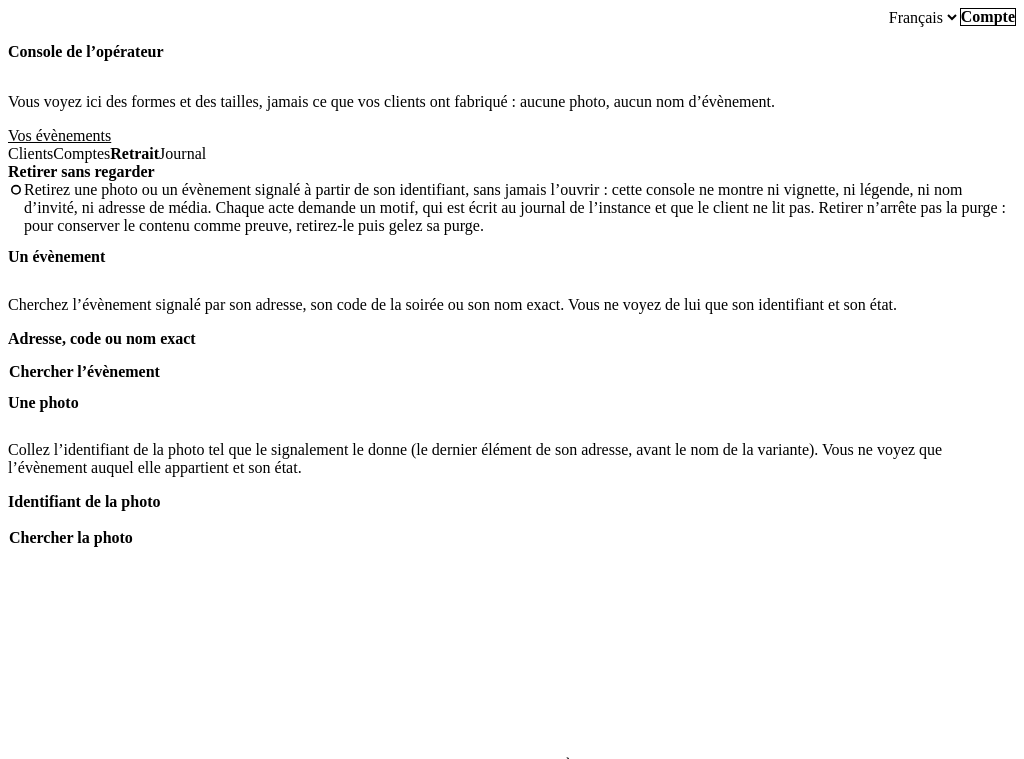
Test: finding an event from what a report quoted › says that nothing matched, and that a name must be exact
Type "Mariage" into the field labelled "Adresse, code ou nom exact" at [512, 355], box x1=8 y1=348 x2=1016 y2=362
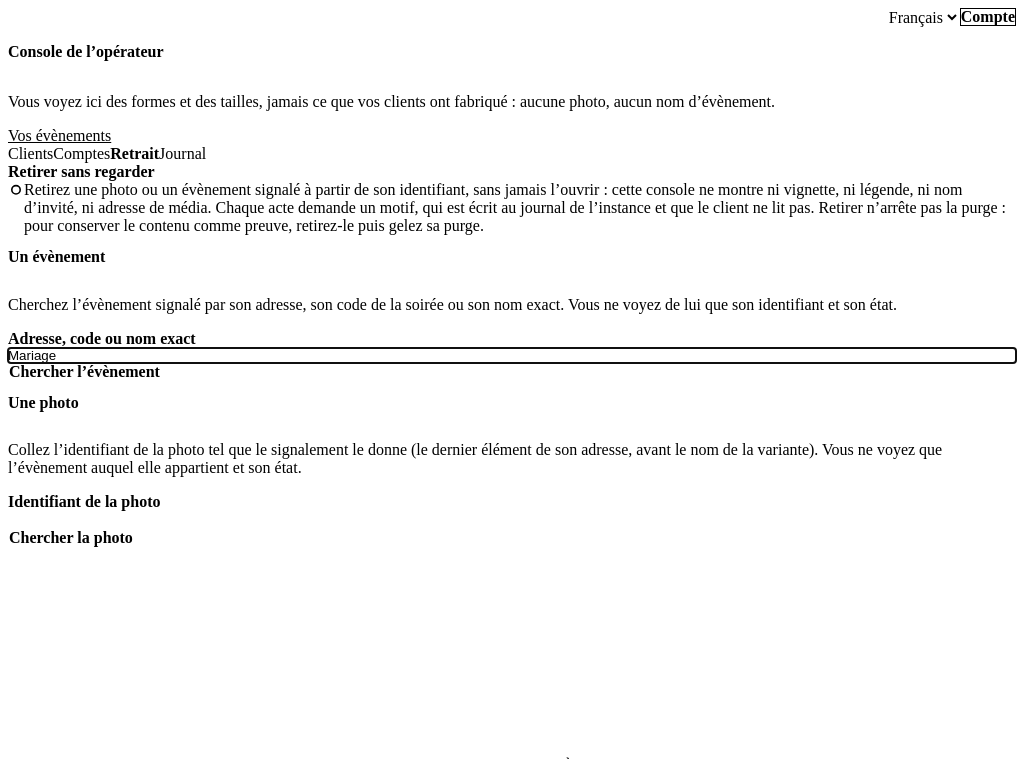
Click the button "Chercher l’évènement" at [84, 372], box x1=8 y1=362 x2=161 y2=380
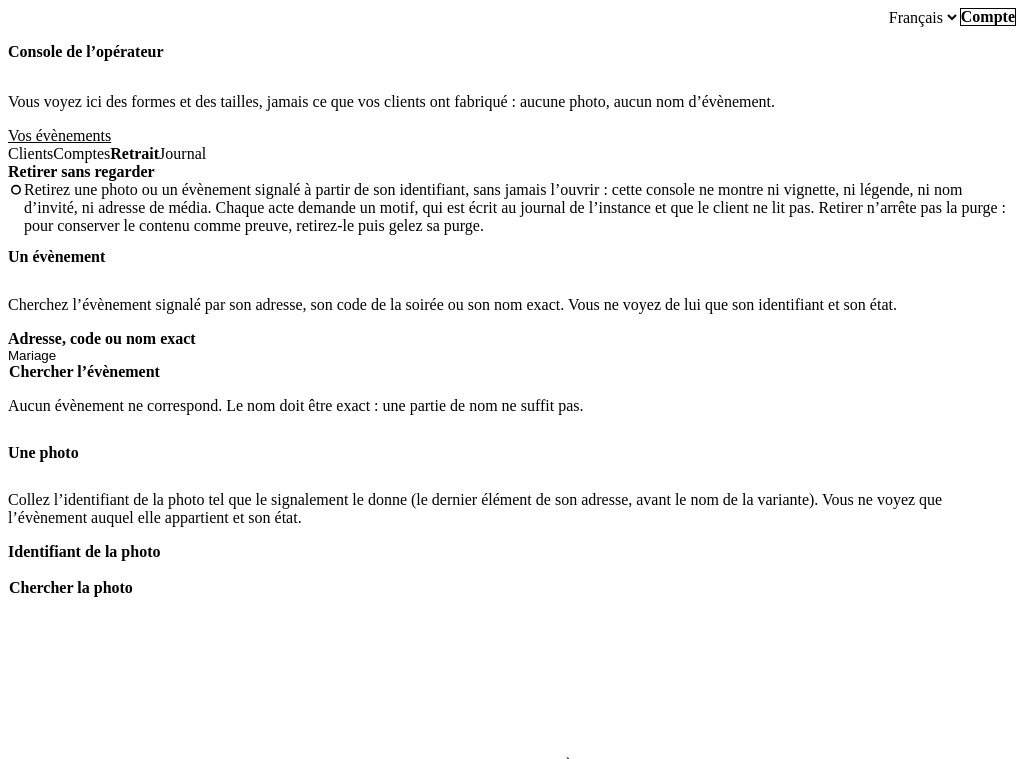
Now the text "Aucun évènement ne correspond. Le nom doit être exact : une partie de nom ne suffit pas." is shown, box x1=8 y1=396 x2=584 y2=414
